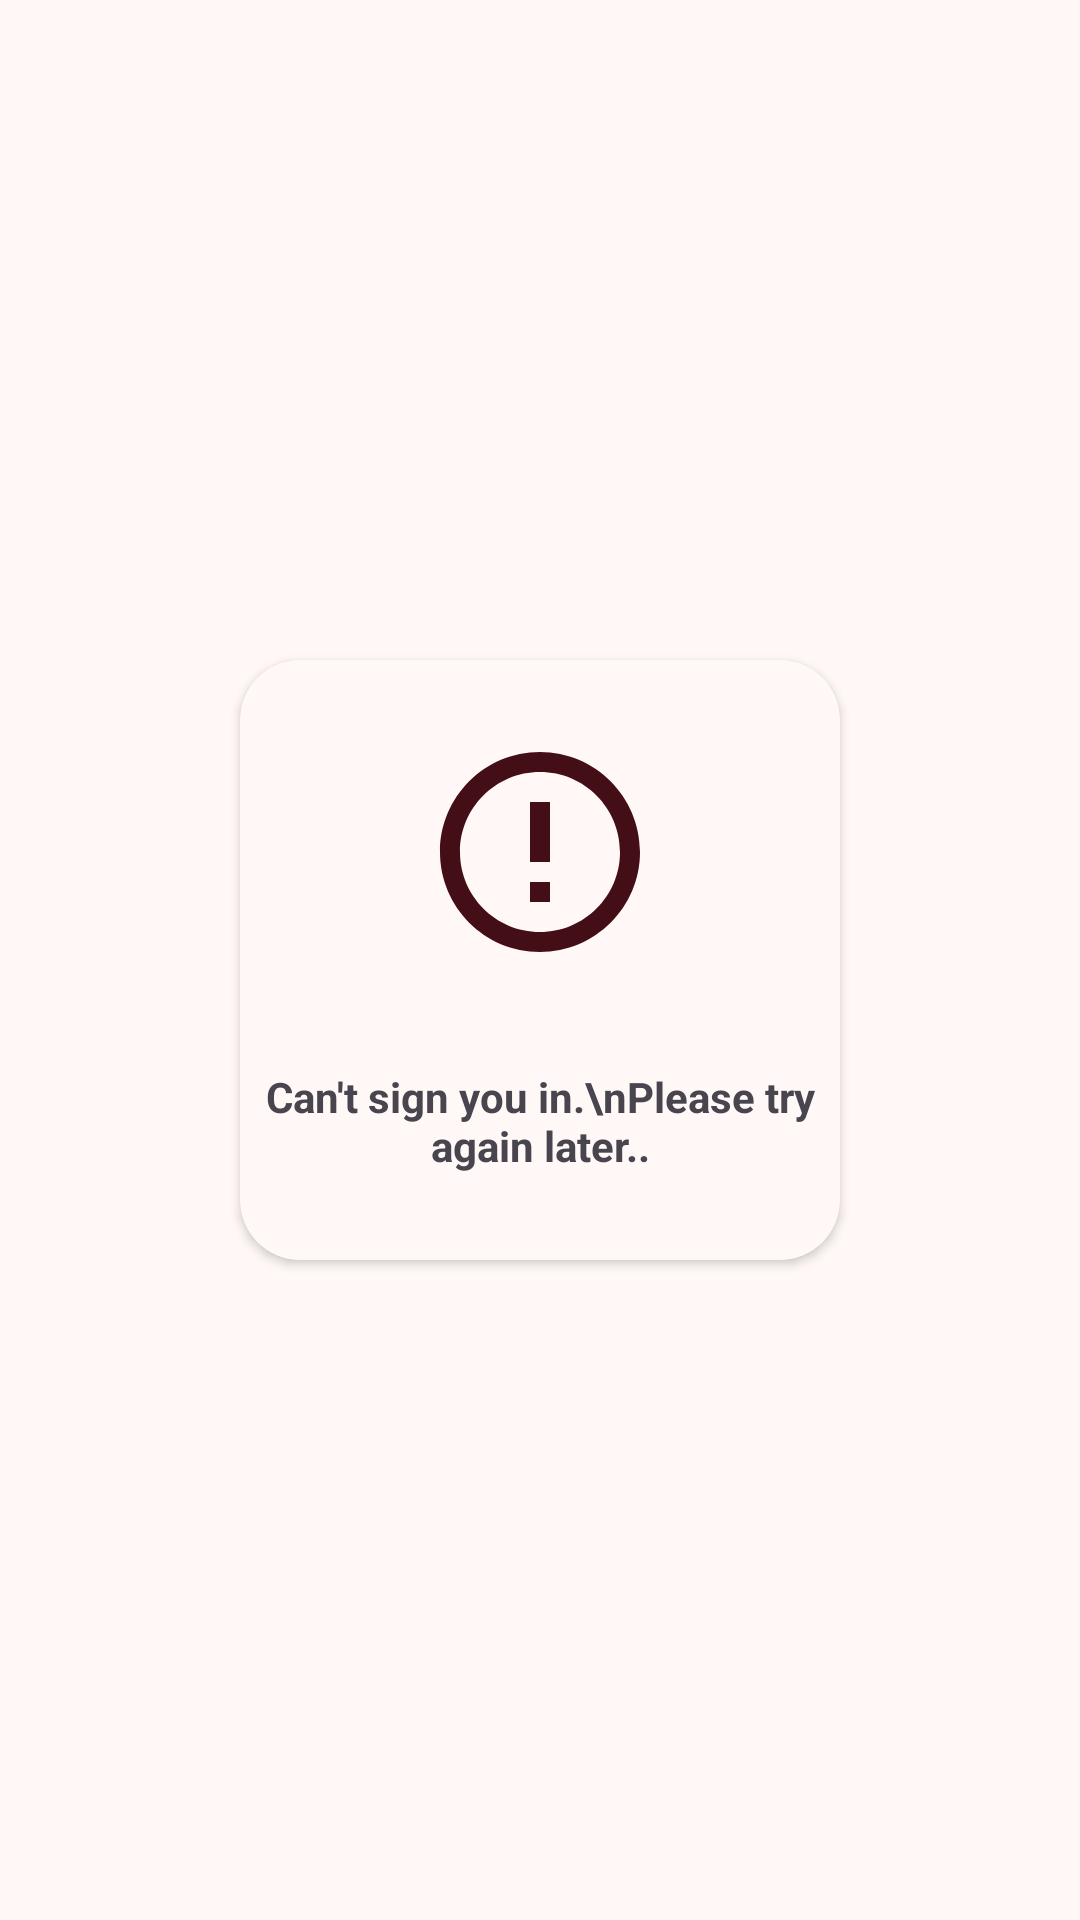

Locate icon controls on the screen. Image size 1080px x 1920px, boxes as (x1, y1, x2, y2).
error: (440, 752, 640, 952)
